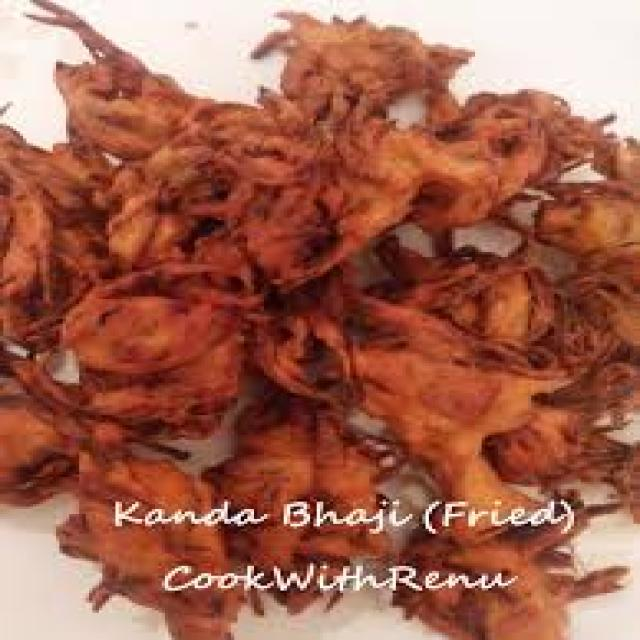BAJI: (2, 0, 637, 638)
